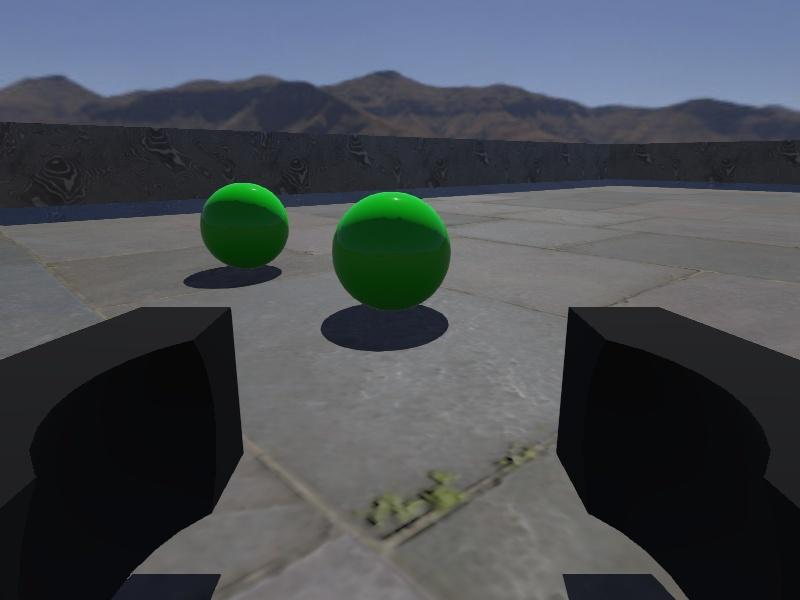green ball: (331, 191, 452, 313), (200, 182, 290, 270)
